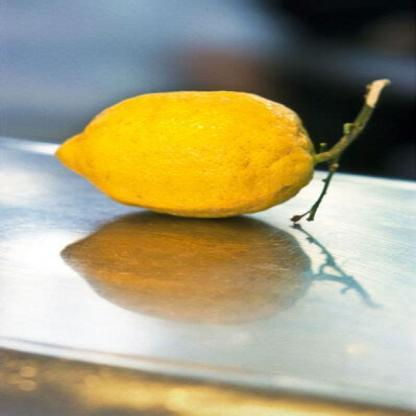lemon: (55, 90, 315, 219)
